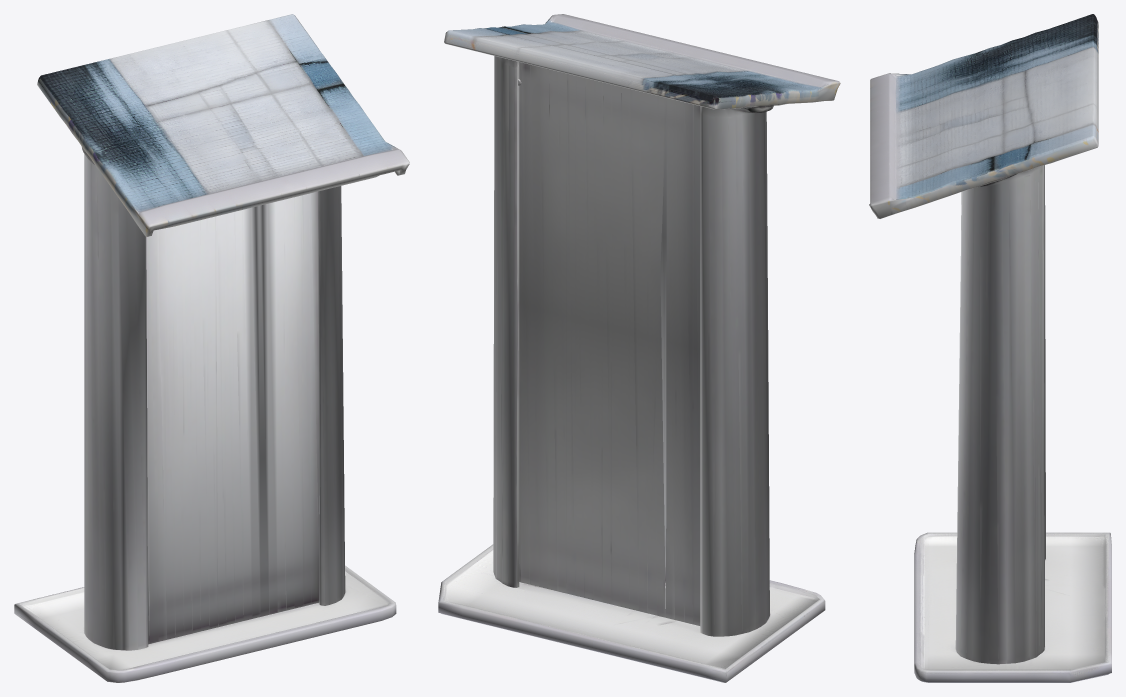
Rendered from Modern_Silver_Lectern_0607154105_texture.glb.
The picture shows the model from 3 angles, left to right: view 1: azimuth 30°, elevation 25°; view 2: azimuth 150°, elevation 25°; view 3: azimuth 270°, elevation 25°; orthographic projection. The views are drawn at different scales.
Parts seen in each view (by area): view 1: Mesh_0.001; view 2: Mesh_0.001; view 3: Mesh_0.001.
Part boxes in pixels (x1=…): Mesh_0.001: x1=14, y1=14, x2=409, y2=682; Mesh_0.001: x1=438, y1=14, x2=840, y2=682; Mesh_0.001: x1=869, y1=14, x2=1111, y2=682.
Bounding box in the file's own units: 0.6219 × 1.12 × 0.4567.
1 material, 1 textured.
